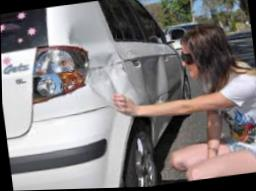Fender: (84, 43, 128, 107)
